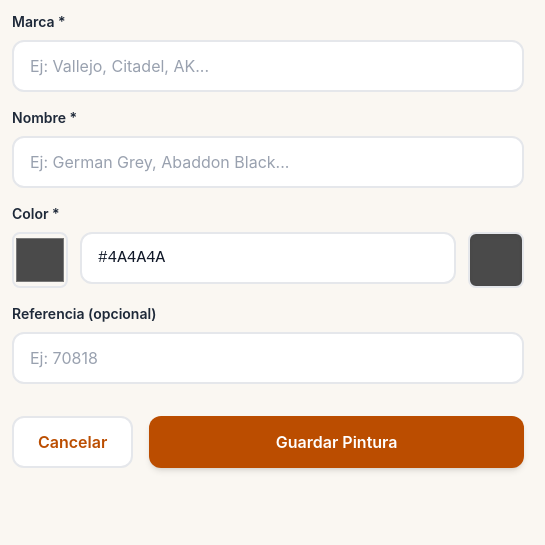
Test: PaintForm › T8.21: should validate required fields
# Submit empty form
Click the button "Guardar Pintura" at point(337, 442), box [149,416,524,468]
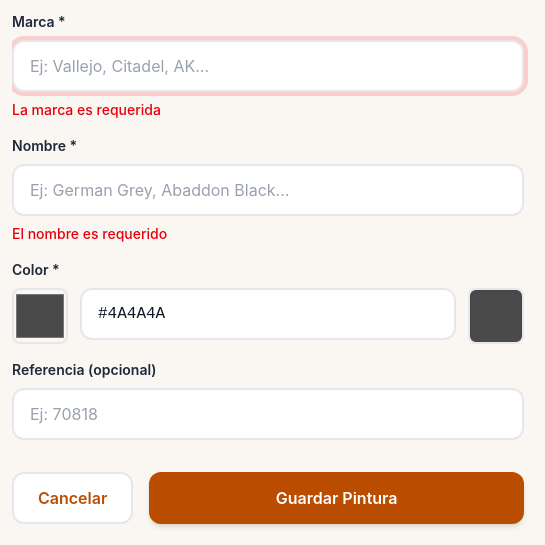
Now the text "La marca es requerida" is shown, box [12,101,161,118]
Now the text "El nombre es requerido" is shown, box [12,225,167,242]
